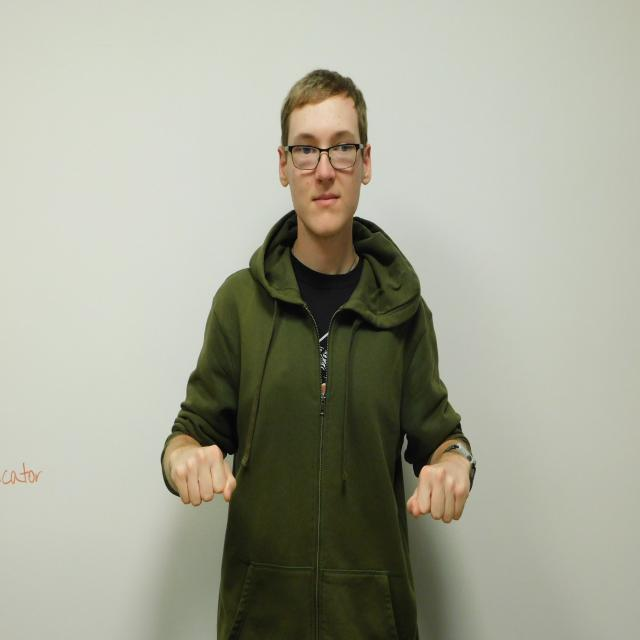can: (170, 444, 471, 523)
